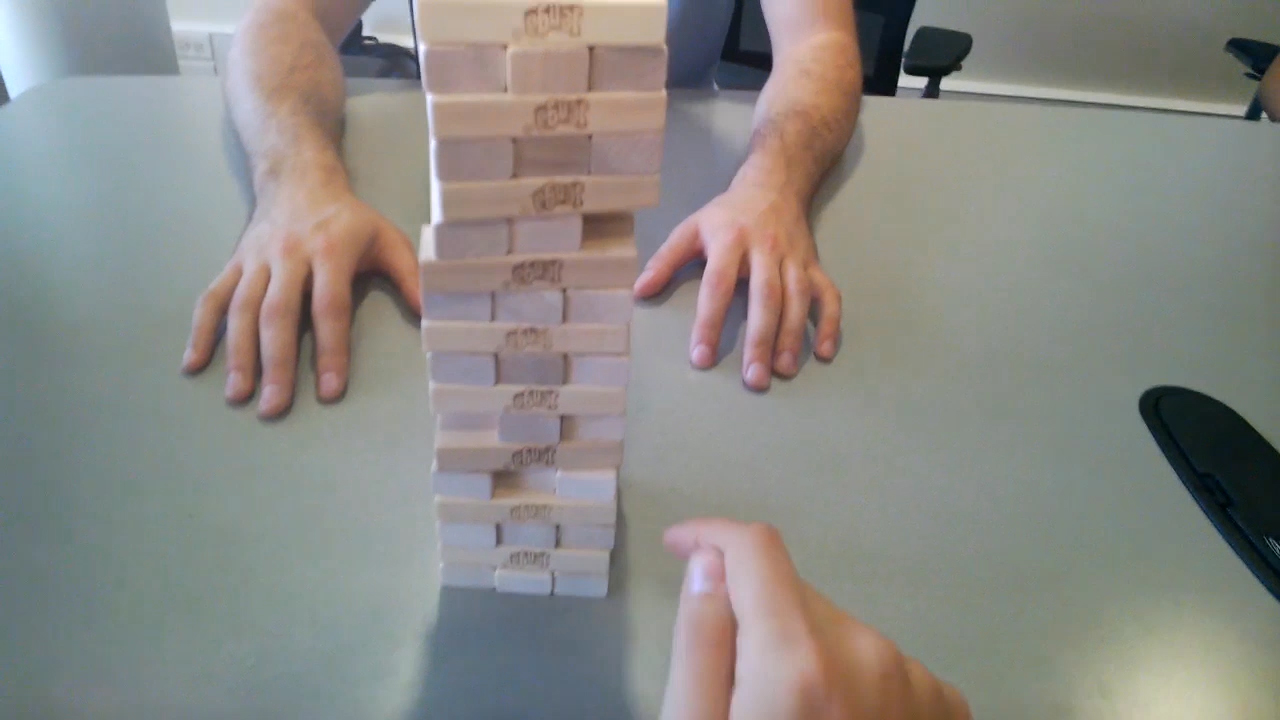hand: (663, 527, 962, 717), (183, 199, 417, 416), (642, 192, 832, 377)
